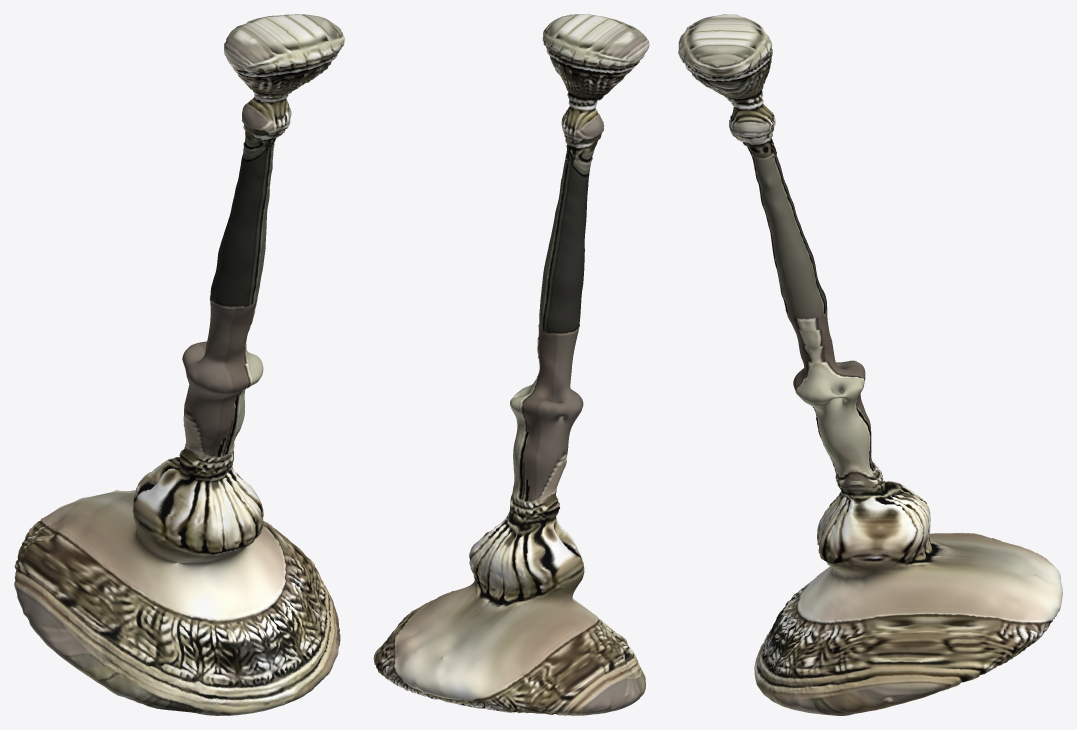
The model's file is kfl-2148.glb.
3 views of the same model, side by side, from view 1: azimuth 30°, elevation 25°; view 2: azimuth 150°, elevation 25°; view 3: azimuth 270°, elevation 25° (orthographic). The views are drawn at different scales.
Visible parts, largest first — view 1: kfl-2148; view 2: kfl-2148; view 3: kfl-2148.
Part boxes in pixels (x1,y1,x2,y2): kfl-2148: (14, 14, 344, 715); kfl-2148: (373, 14, 649, 715); kfl-2148: (678, 14, 1062, 715).
Size of the model in its own units: 0.4029 by 0.9967 by 0.5337.
Materials: 1 (1 with a texture image).
